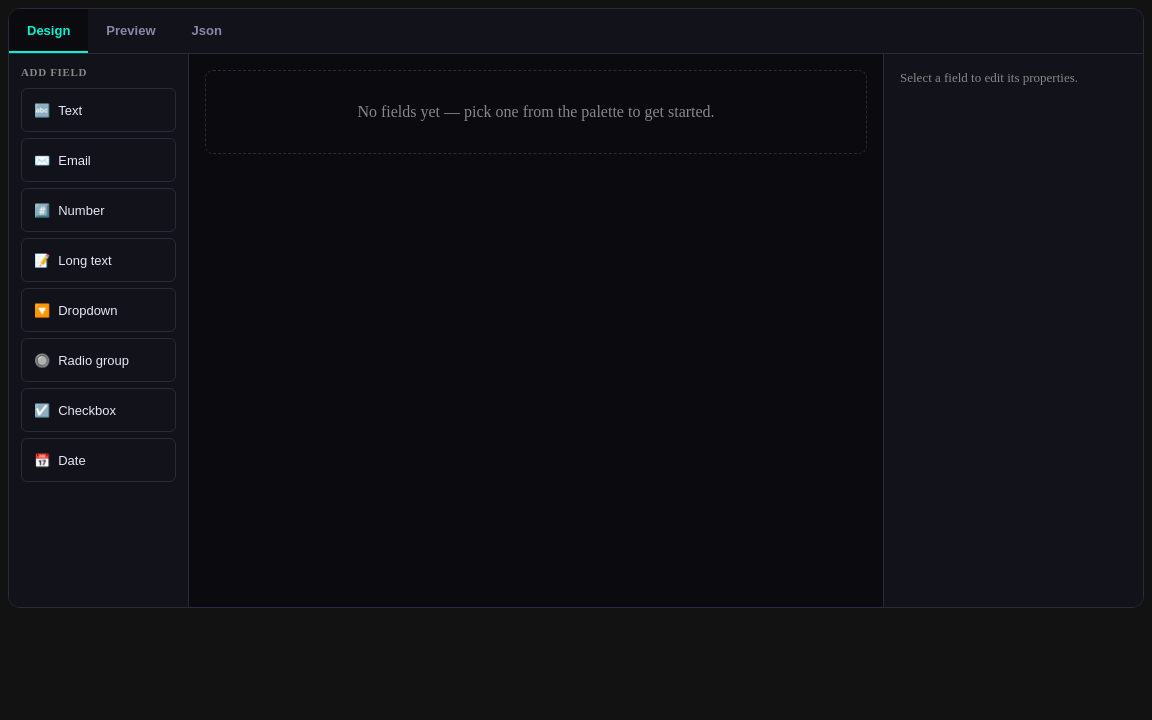
Test: TkxFormBuilder › renders the JSON view with the schema
Click the tab with test id "tab-json" at (207, 31), box top-left (174, 9), bottom-right (240, 53)
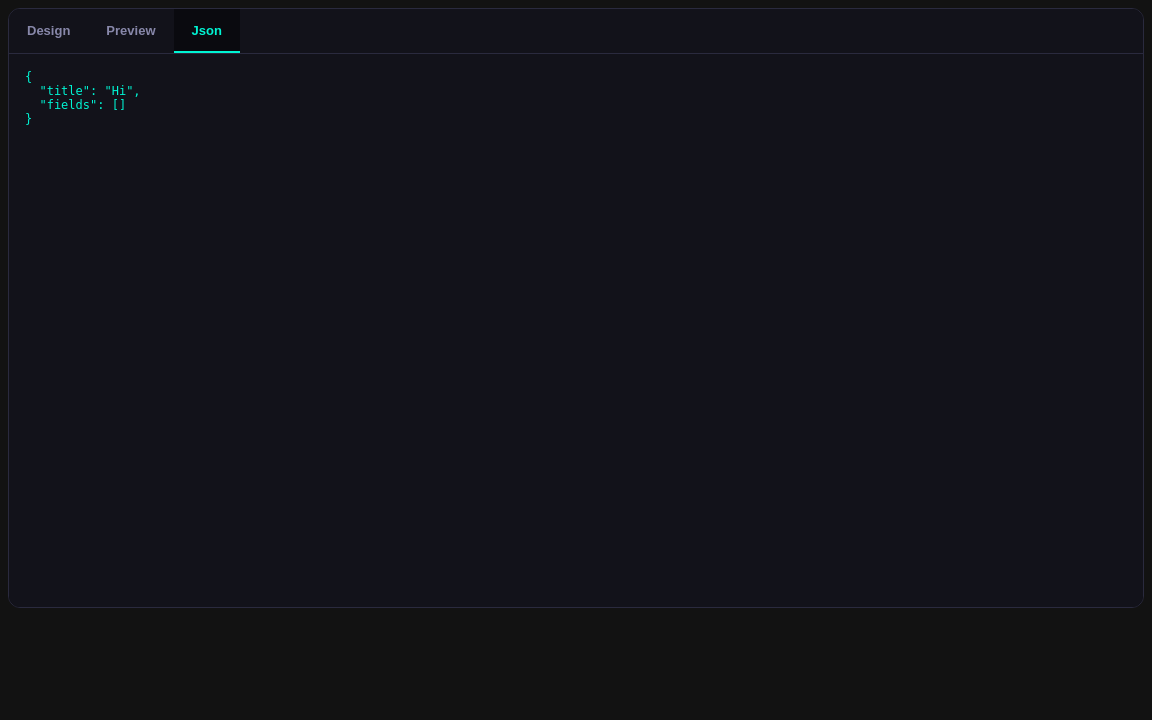
Expected: the text with test id "json-view" shows "\"title\": \"Hi\"", top-left (25, 70), bottom-right (141, 126)
